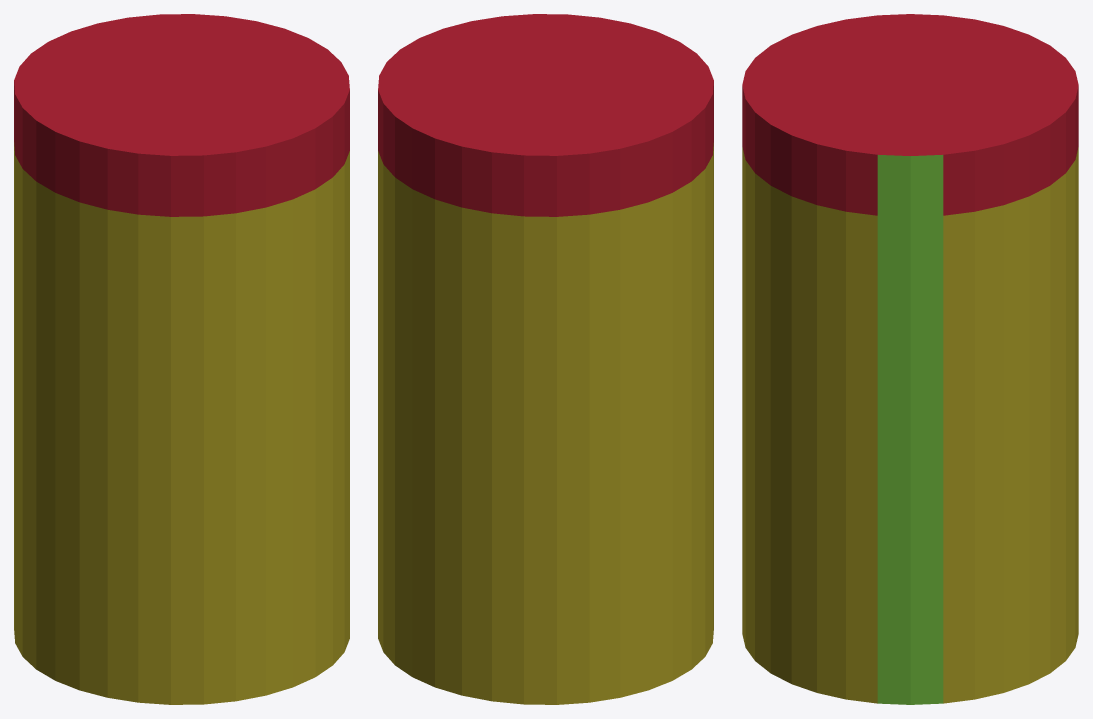
File: dogJar.dae
The picture shows the model from 3 angles, left to right: view 1: azimuth 30°, elevation 25°; view 2: azimuth 150°, elevation 25°; view 3: azimuth 270°, elevation 25°; orthographic projection.
Parts seen in each view (by area): view 1: Cylinder_001; view 2: Cylinder_001; view 3: Cylinder_001.
Part boxes in pixels (x1,y1,x2,y2): Cylinder_001: (14, 14, 349, 704); Cylinder_001: (378, 14, 713, 704); Cylinder_001: (742, 14, 1078, 704).
Size of the model in its own units: 0.0999 by 0.0999 by 0.1798.
